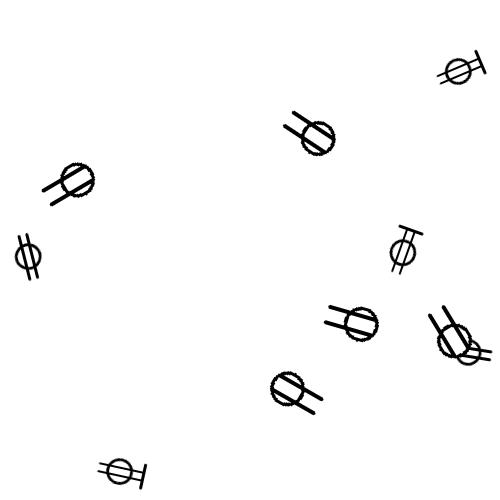Duplex-Receptacle: (324, 304, 383, 340), (421, 316, 480, 352), (41, 166, 100, 202), (282, 116, 341, 152), (265, 375, 324, 411), (434, 55, 486, 88), (95, 456, 147, 489), (378, 235, 430, 268), (3, 242, 56, 273), (443, 336, 496, 367)
